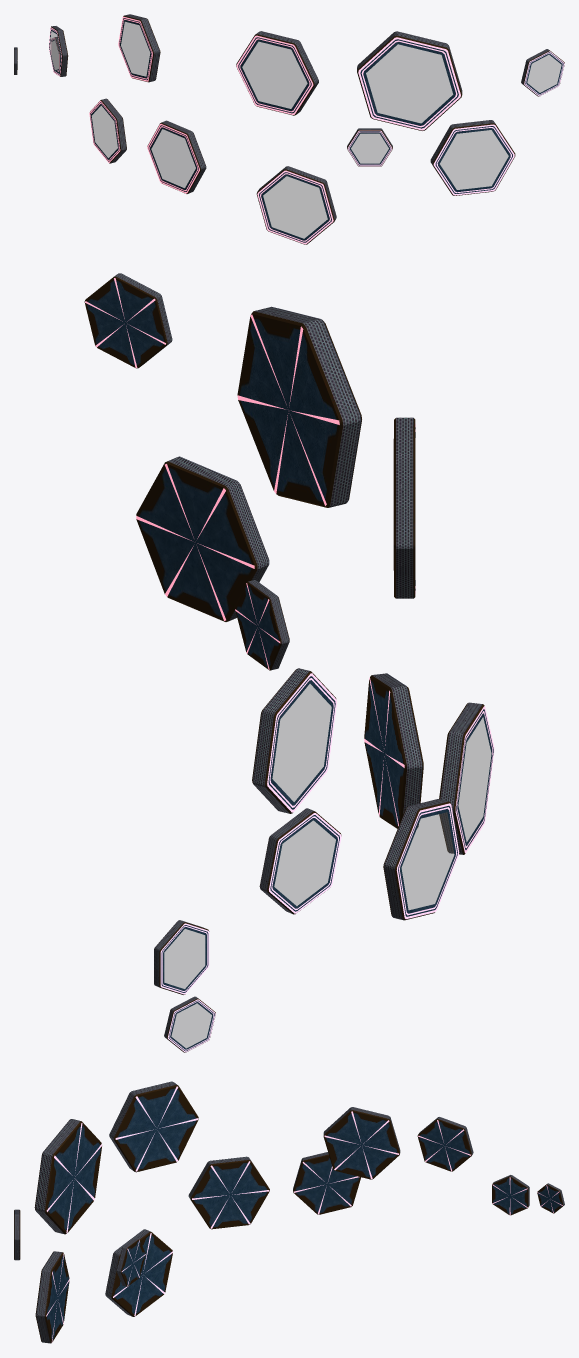
The model's file is entity20550.gltf.
3 views of the same model, one above another, from view 1: azimuth 30°, elevation 25°; view 2: azimuth 150°, elevation 25°; view 3: azimuth 270°, elevation 25° (orthographic). The views are drawn at different scales.
Visible parts, largest first — view 1: node_Hex_Deco (21), node_Hex_Deco (19), node_Hex_Deco (22), node_Hex_Deco (20), node_Hex_Deco (18), node_Hex_Deco (16), node_Hex_Deco (17), node_Hex_Deco (23), node_Hex_Deco (24), node_Hex_Deco (15); view 2: node_Hex_Deco (21), node_Hex_Deco (22), node_Hex_Deco (16), node_Hex_Deco (17), node_Hex_Deco (20), node_Hex_Deco (15), node_Hex_Deco (18), node_Hex_Deco (23), node_Hex_Deco (19), node_Hex_Deco (24), node_Hex_Deco (14), node_Hex_Deco (13); view 3: node_Hex_Deco (19), node_Hex_Deco (21), node_Hex_Deco (18), node_Hex_Deco (16), node_Hex_Deco (20), node_Hex_Deco (17), node_Hex_Deco (22), node_Hex_Deco (15), node_Hex_Deco (14), node_Hex_Deco (24), node_Hex_Deco (13), node_Hex_Deco (23).
Boxes of the visible parts, box(x1,y1,x2,y2) form: node_Hex_Deco (21): box(357, 31, 462, 130); node_Hex_Deco (19): box(236, 31, 318, 115); node_Hex_Deco (22): box(430, 120, 515, 195); node_Hex_Deco (20): box(256, 166, 336, 244); node_Hex_Deco (18): box(147, 120, 206, 193); node_Hex_Deco (16): box(118, 14, 160, 82); node_Hex_Deco (17): box(89, 98, 126, 163); node_Hex_Deco (23): box(521, 49, 564, 96); node_Hex_Deco (24): box(347, 128, 392, 166); node_Hex_Deco (15): box(49, 26, 68, 76); node_Hex_Deco (21): box(237, 306, 361, 507); node_Hex_Deco (22): box(136, 456, 269, 621); node_Hex_Deco (16): box(252, 668, 336, 813); node_Hex_Deco (17): box(383, 799, 459, 920); node_Hex_Deco (20): box(364, 673, 423, 828); node_Hex_Deco (15): box(259, 808, 341, 914); node_Hex_Deco (18): box(439, 702, 494, 854); node_Hex_Deco (23): box(84, 273, 172, 368); node_Hex_Deco (19): box(393, 417, 415, 598); node_Hex_Deco (24): box(235, 580, 289, 670); node_Hex_Deco (14): box(154, 920, 209, 994); node_Hex_Deco (13): box(164, 996, 215, 1052); node_Hex_Deco (19): box(109, 1081, 198, 1172); node_Hex_Deco (21): box(34, 1119, 102, 1234); node_Hex_Deco (18): box(188, 1156, 269, 1229); node_Hex_Deco (16): box(323, 1107, 400, 1179); node_Hex_Deco (20): box(105, 1229, 172, 1316); node_Hex_Deco (17): box(293, 1152, 360, 1214); node_Hex_Deco (22): box(35, 1251, 69, 1343); node_Hex_Deco (15): box(417, 1117, 473, 1171); node_Hex_Deco (14): box(492, 1175, 529, 1215); node_Hex_Deco (24): box(116, 1238, 145, 1286); node_Hex_Deco (13): box(537, 1183, 564, 1213); node_Hex_Deco (23): box(14, 1209, 20, 1260).
Bounding box in the file's own units: 23.84 × 15.42 × 33.61.
Materials: 3 (1 with a texture image).
